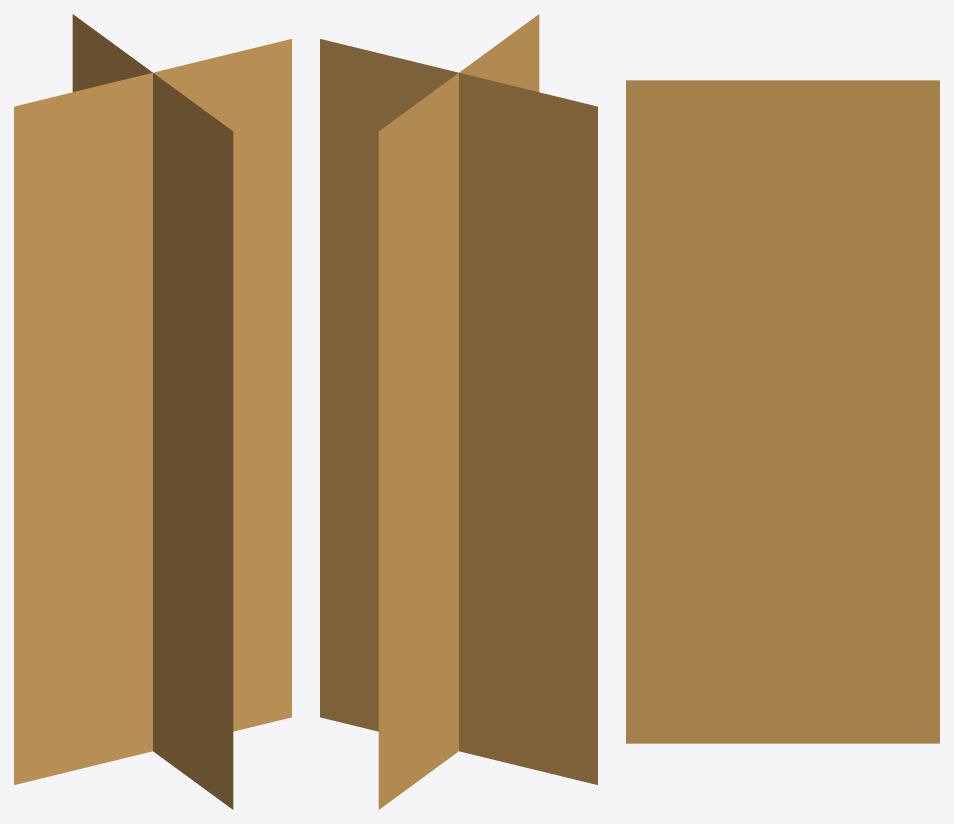
Rendered from SM_Lighter_Flame.fbx.
3 views of the same model, side by side, from view 1: azimuth 30°, elevation 25°; view 2: azimuth 150°, elevation 25°; view 3: azimuth 270°, elevation 25° (orthographic). The views are drawn at different scales.
Parts seen in each view (by area): view 1: SM_Lighter_Flame; view 2: SM_Lighter_Flame; view 3: SM_Lighter_Flame.
Boxes of the visible parts, <box> form: SM_Lighter_Flame: <box>14,14,291,809</box>; SM_Lighter_Flame: <box>320,14,597,809</box>; SM_Lighter_Flame: <box>626,80,939,743</box>.
Size of the model in its own units: 1.2 by 1.2 by 2.8.
